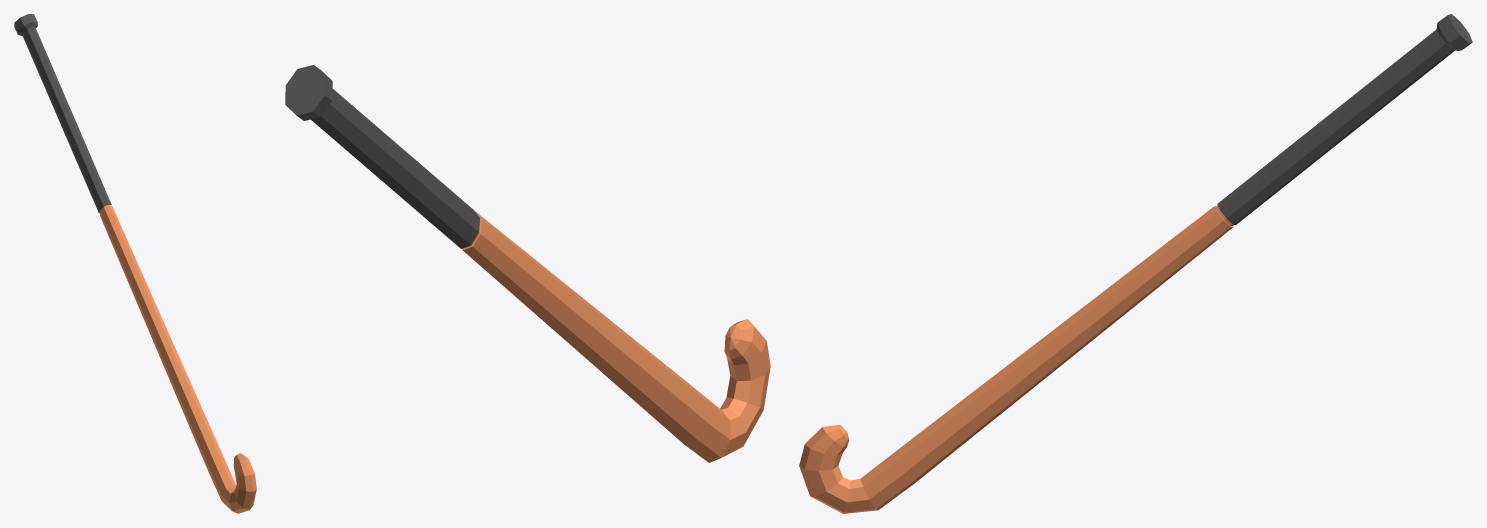
The model's file is hockeystick.glb.
3 views of the same model, side by side, from view 1: azimuth 30°, elevation 25°; view 2: azimuth 150°, elevation 25°; view 3: azimuth 270°, elevation 25° (orthographic). The views are drawn at different scales.
Visible parts, largest first — view 1: Field_Hockey_Stick_Circle; view 2: Field_Hockey_Stick_Circle; view 3: Field_Hockey_Stick_Circle.
Part boxes in pixels (box(x1,y1,x2,y2)): Field_Hockey_Stick_Circle: box(14, 14, 256, 513); Field_Hockey_Stick_Circle: box(285, 65, 770, 462); Field_Hockey_Stick_Circle: box(799, 14, 1472, 513).
Size of the model in its own units: 0.046 by 0.7766 by 0.95.
